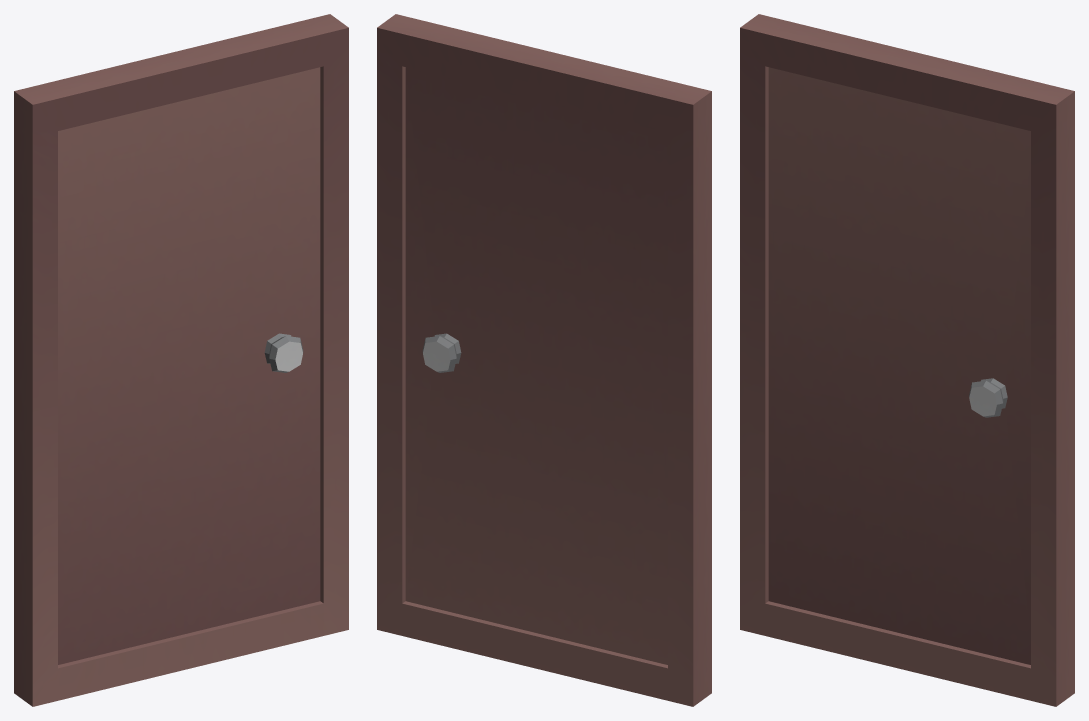
File: door_1.obj
3 renders of one model, left to right at view 1: azimuth 30°, elevation 25°; view 2: azimuth 150°, elevation 25°; view 3: azimuth 330°, elevation 25°, orthographic.
Visible parts, largest first — view 1: door_1_Mesh; view 2: door_1_Mesh; view 3: door_1_Mesh.
Part boxes in pixels (x1=…): door_1_Mesh: x1=14, y1=14, x2=348, y2=706; door_1_Mesh: x1=377, y1=14, x2=711, y2=706; door_1_Mesh: x1=740, y1=14, x2=1074, y2=706.
Size of the model in its own units: 0.8007 by 1.46 by 0.1413.
